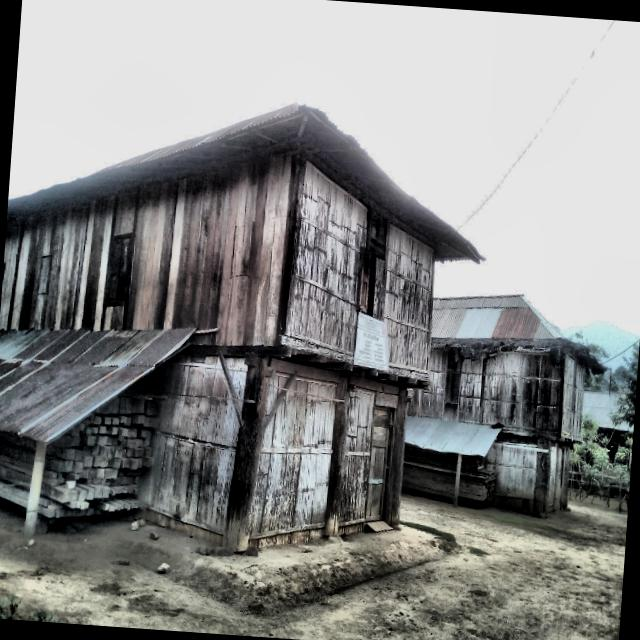column: (223, 352, 271, 552), (323, 376, 356, 536), (385, 386, 410, 524), (24, 442, 46, 535), (453, 454, 461, 506)
door: (365, 405, 391, 520)
roof: (6, 103, 486, 264), (0, 329, 193, 444), (432, 295, 563, 339), (405, 416, 501, 456)
wall: (0, 153, 292, 346), (284, 156, 435, 380), (147, 355, 238, 535), (249, 375, 338, 537), (458, 351, 563, 437), (339, 387, 374, 522), (484, 440, 537, 500), (561, 354, 585, 440), (265, 371, 292, 420), (224, 358, 247, 409)
window: (104, 232, 135, 305), (356, 247, 375, 316), (37, 255, 52, 293)
